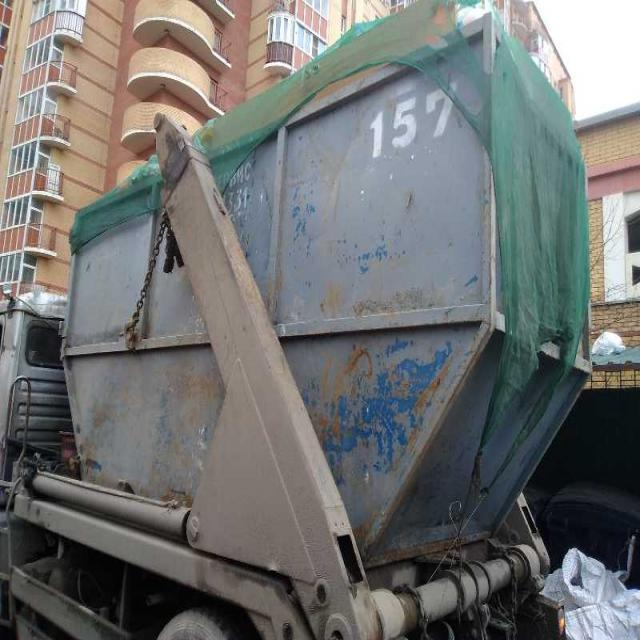Dumpster: (59, 12, 591, 567)
